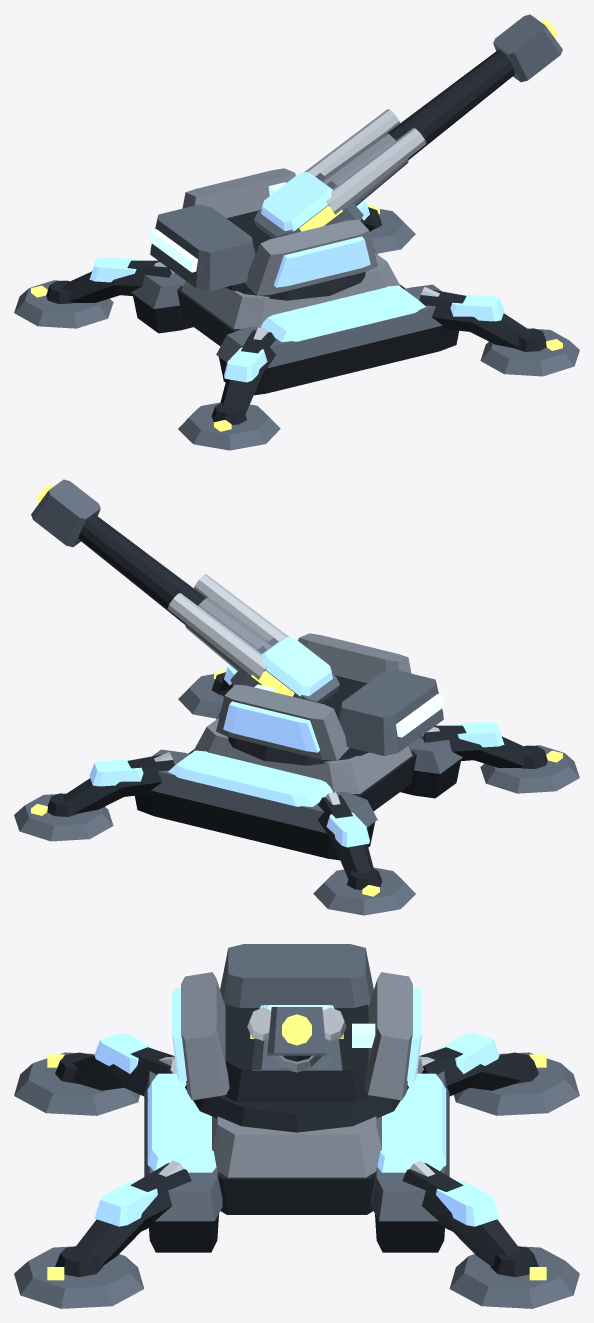
The model's file is howitzer_emplaced.glb.
The picture shows the model from 3 angles, top to bottom: view 1: azimuth 30°, elevation 25°; view 2: azimuth 150°, elevation 25°; view 3: azimuth 270°, elevation 25°; orthographic projection. The views are drawn at different scales.
Visible parts, largest first — view 1: Surf_heavy, Surf_dark, Surf_TEAM, Surf_armor2, Surf_track, Surf_heavy2, Surf_light2, Surf_dark3, Surf_armor, Surf_heavy3, Surf_TEAM2, Surf_TEAM3 (+4 smaller); view 2: Surf_heavy, Surf_dark, Surf_TEAM, Surf_armor2, Surf_track, Surf_heavy2, Surf_light2, Surf_dark3, Surf_armor, Surf_heavy3, Surf_TEAM2, Surf_TEAM3 (+4 smaller); view 3: Surf_dark, Surf_heavy, Surf_TEAM, Surf_armor2, Surf_heavy2, Surf_armor, Surf_dark2, Surf_track, Surf_heavy3, Surf_TEAM2, Surf_light2, Surf_amber (+3 smaller).
Part boxes in pixels (x1,y1,x2,y2): Surf_heavy: (14, 209, 579, 450); Surf_dark: (46, 207, 546, 424); Surf_TEAM: (89, 199, 504, 382); Surf_armor2: (182, 168, 377, 295); Surf_track: (132, 294, 458, 395); Surf_heavy2: (150, 204, 255, 290); Surf_light2: (304, 109, 426, 214); Surf_dark3: (387, 50, 515, 159); Surf_armor: (181, 253, 400, 328); Surf_heavy3: (254, 14, 562, 238); Surf_TEAM2: (201, 172, 370, 287); Surf_TEAM3: (261, 172, 332, 231); Surf_heavy: (14, 674, 579, 915); Surf_dark: (47, 672, 547, 889); Surf_TEAM: (89, 664, 504, 847); Surf_armor2: (216, 633, 411, 760); Surf_track: (135, 759, 461, 860); Surf_heavy2: (338, 669, 443, 755); Surf_light2: (167, 574, 289, 679); Surf_dark3: (78, 515, 206, 624); Surf_armor: (193, 718, 412, 793); Surf_heavy3: (31, 479, 339, 703); Surf_TEAM2: (223, 637, 392, 752); Surf_TEAM3: (261, 637, 332, 696); Surf_dark: (55, 1047, 538, 1277); Surf_heavy: (14, 1052, 579, 1308); Surf_TEAM: (94, 1032, 499, 1226); Surf_armor2: (181, 972, 412, 1100); Surf_heavy2: (220, 944, 373, 1007); Surf_armor: (212, 1116, 381, 1177); Surf_dark2: (224, 1004, 369, 1102); Surf_track: (149, 1214, 444, 1252); Surf_heavy3: (251, 1007, 342, 1070); Surf_TEAM2: (172, 987, 421, 1081); Surf_light2: (247, 1007, 346, 1040); Surf_amber: (47, 1054, 546, 1280).
Size of the model in its own units: 6.48 by 3.48 by 5.35.
